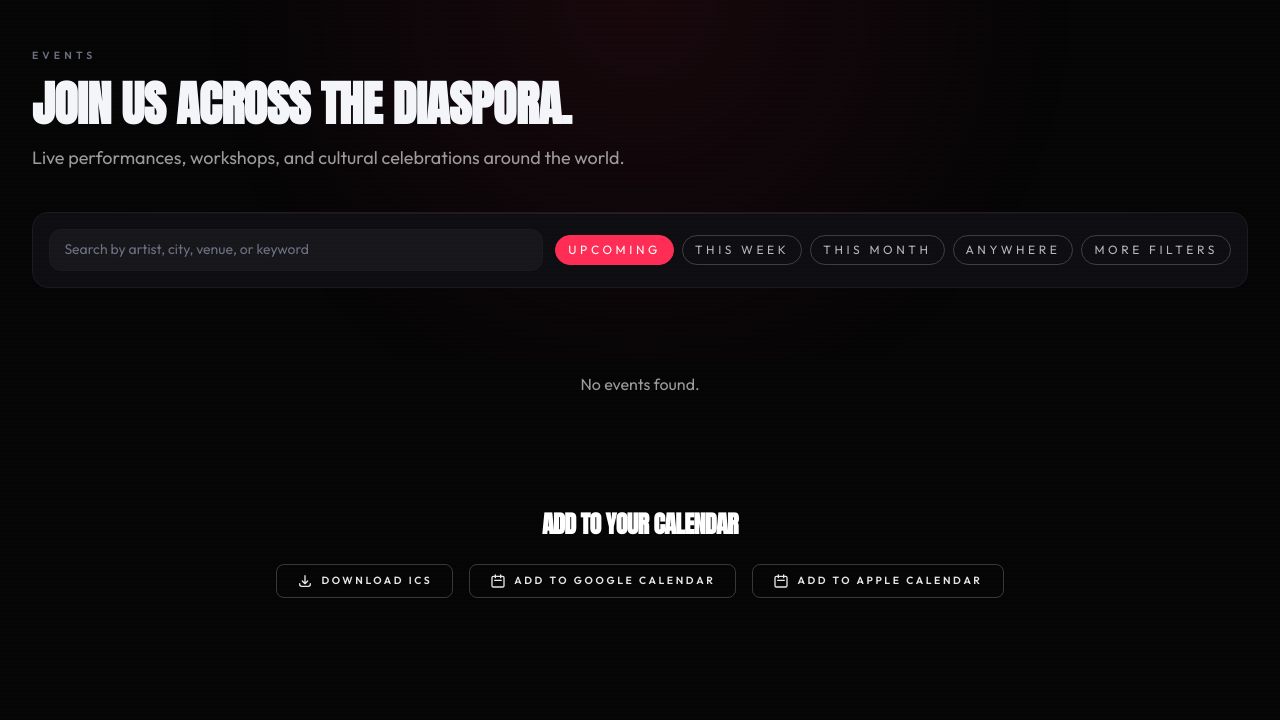
Test: Events Page - Accessibility and Filters › Clear Button › should reset all filters including city picker state
Expected: the button "Upcoming" is shown, [555,235,674,265]
# Open city picker
Step 1. Click the button "Anywhere" → [1013, 250], box [952,235,1073,265]
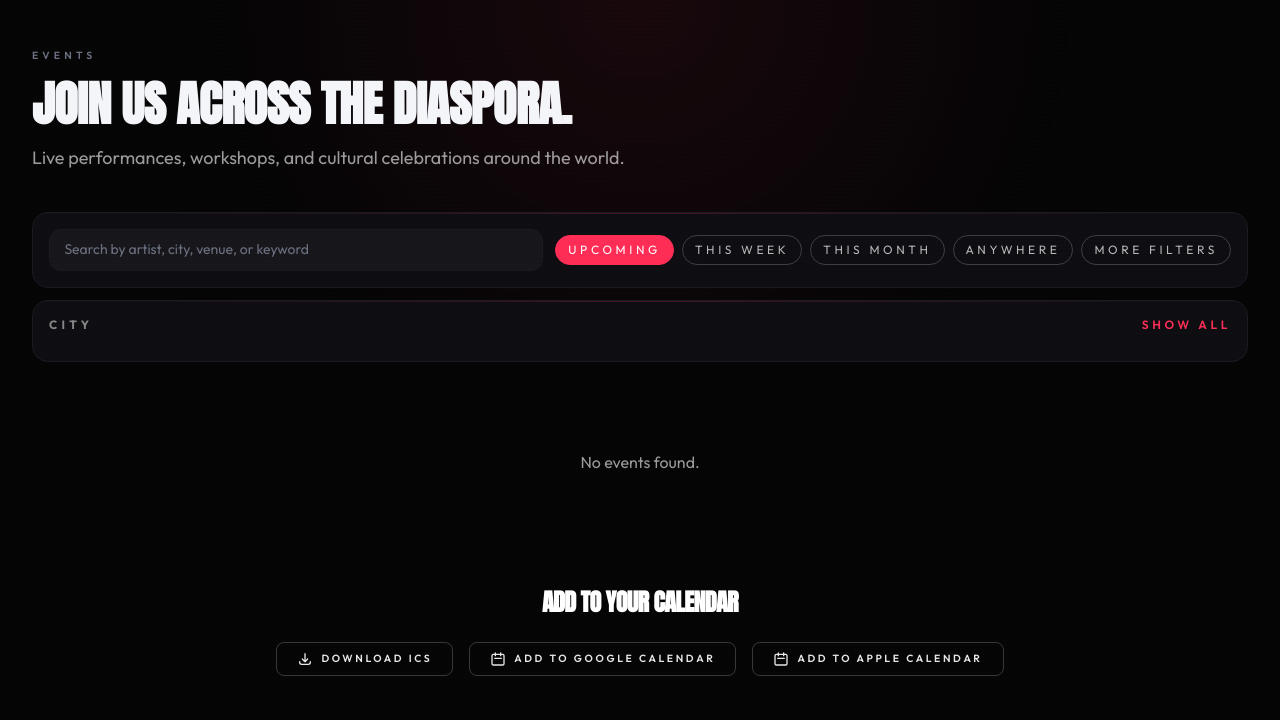
# Select "This Week" preset
Step 2. Click the button "This Week" → [742, 250], box [682,235,802,265]
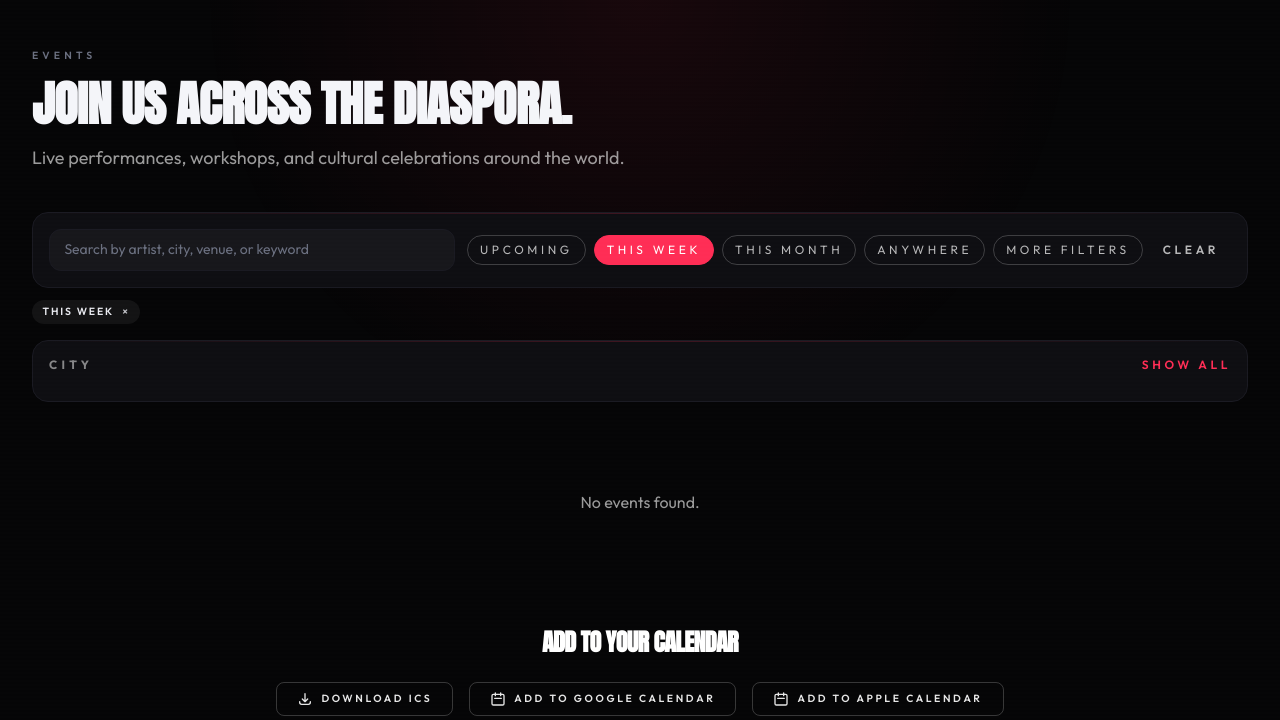
Expected: the button "Clear" is shown
Step 3. Click the button "Clear" → [1191, 250], box [1151,236,1231,264]
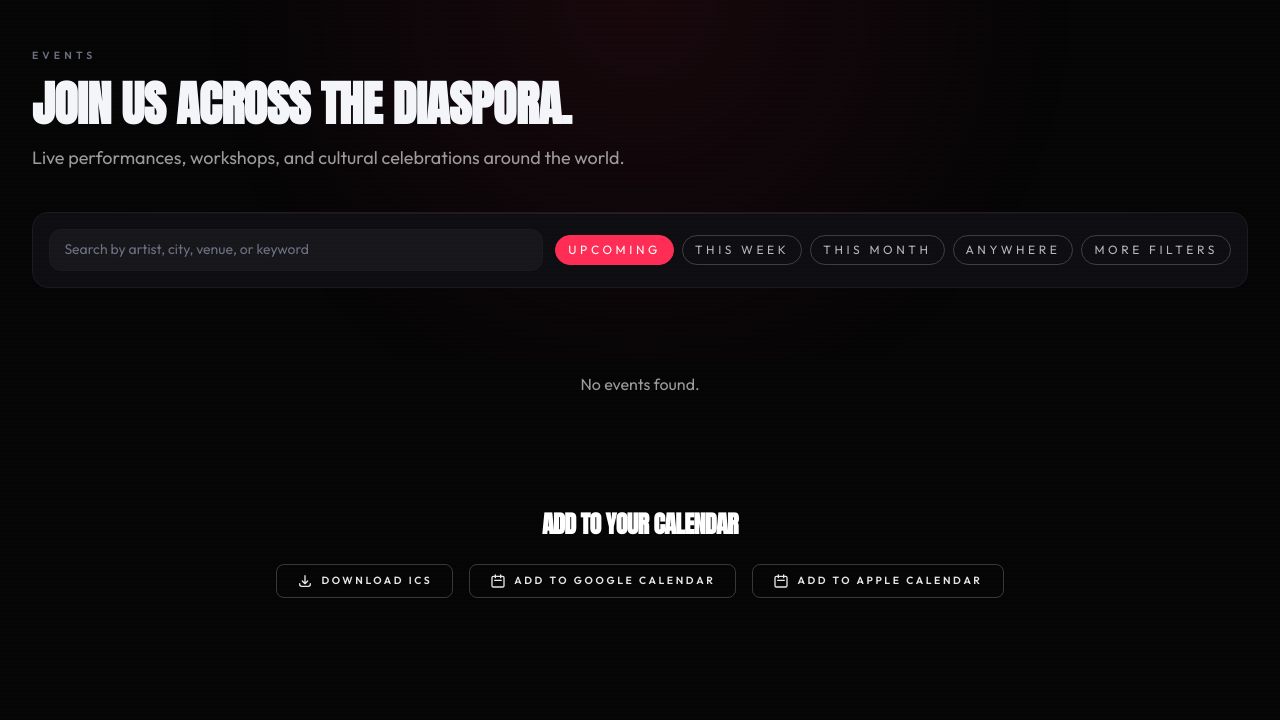
Expected: the button "Anywhere" is collapsed, [952,235,1073,265]
